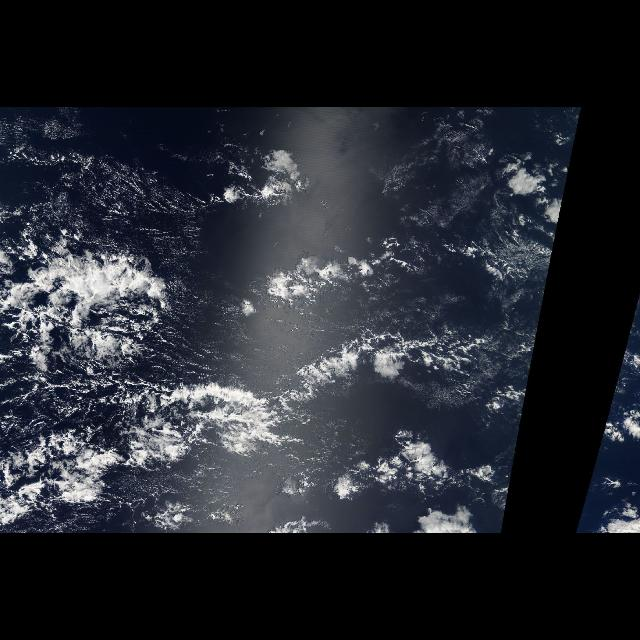Fish: (1, 145, 544, 519)
Gravel: (2, 335, 144, 449), (91, 148, 200, 245)
